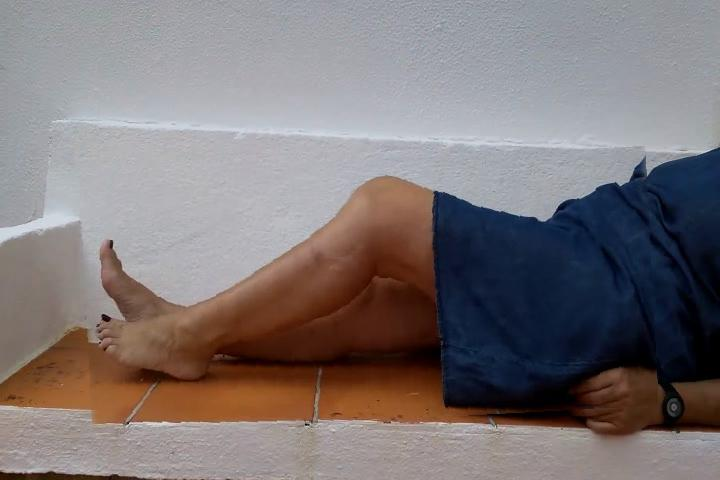lowerbody: (83, 155, 656, 429)
